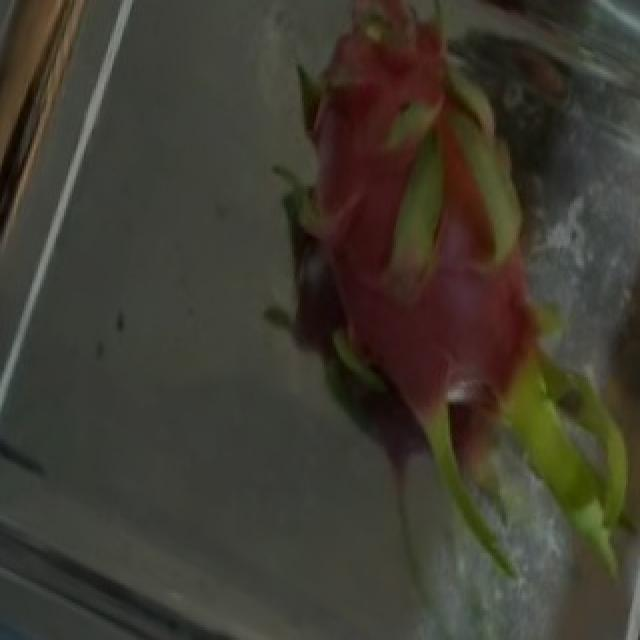fruit: (186, 2, 628, 426)
